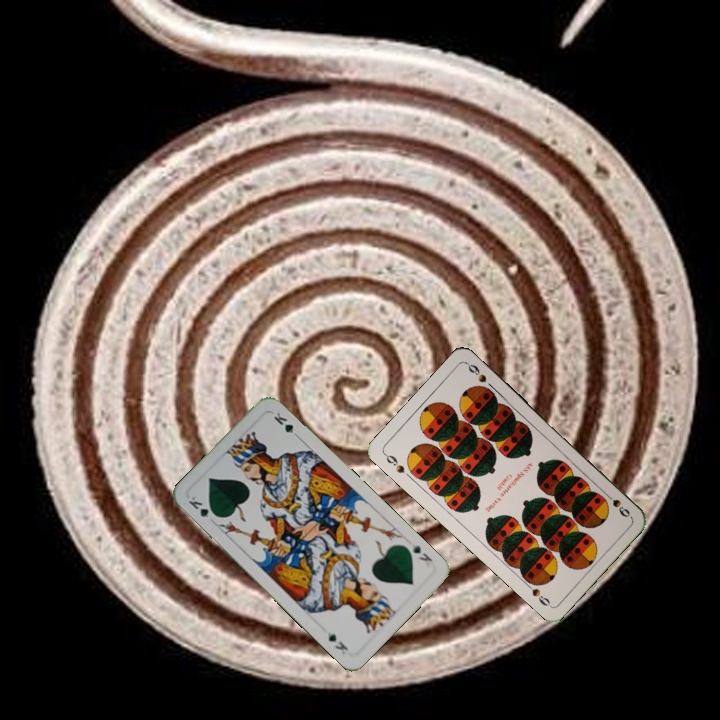GK: (184, 492, 220, 521), (407, 540, 435, 569)
S9: (600, 488, 633, 520), (380, 449, 407, 476)
